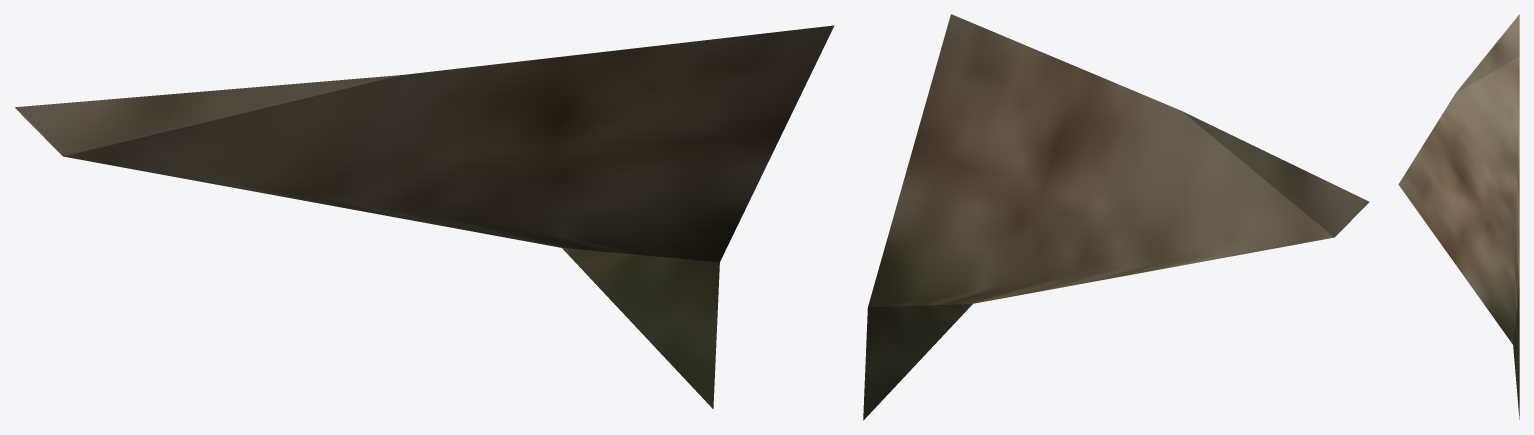
The picture shows the model from 3 angles, left to right: view 1: azimuth 30°, elevation 25°; view 2: azimuth 150°, elevation 25°; view 3: azimuth 270°, elevation 25°; orthographic projection. The views are drawn at different scales.
Size of the model in its own units: 0.3764 by 0.2433 by 0.113.
1 material, 1 textured.
